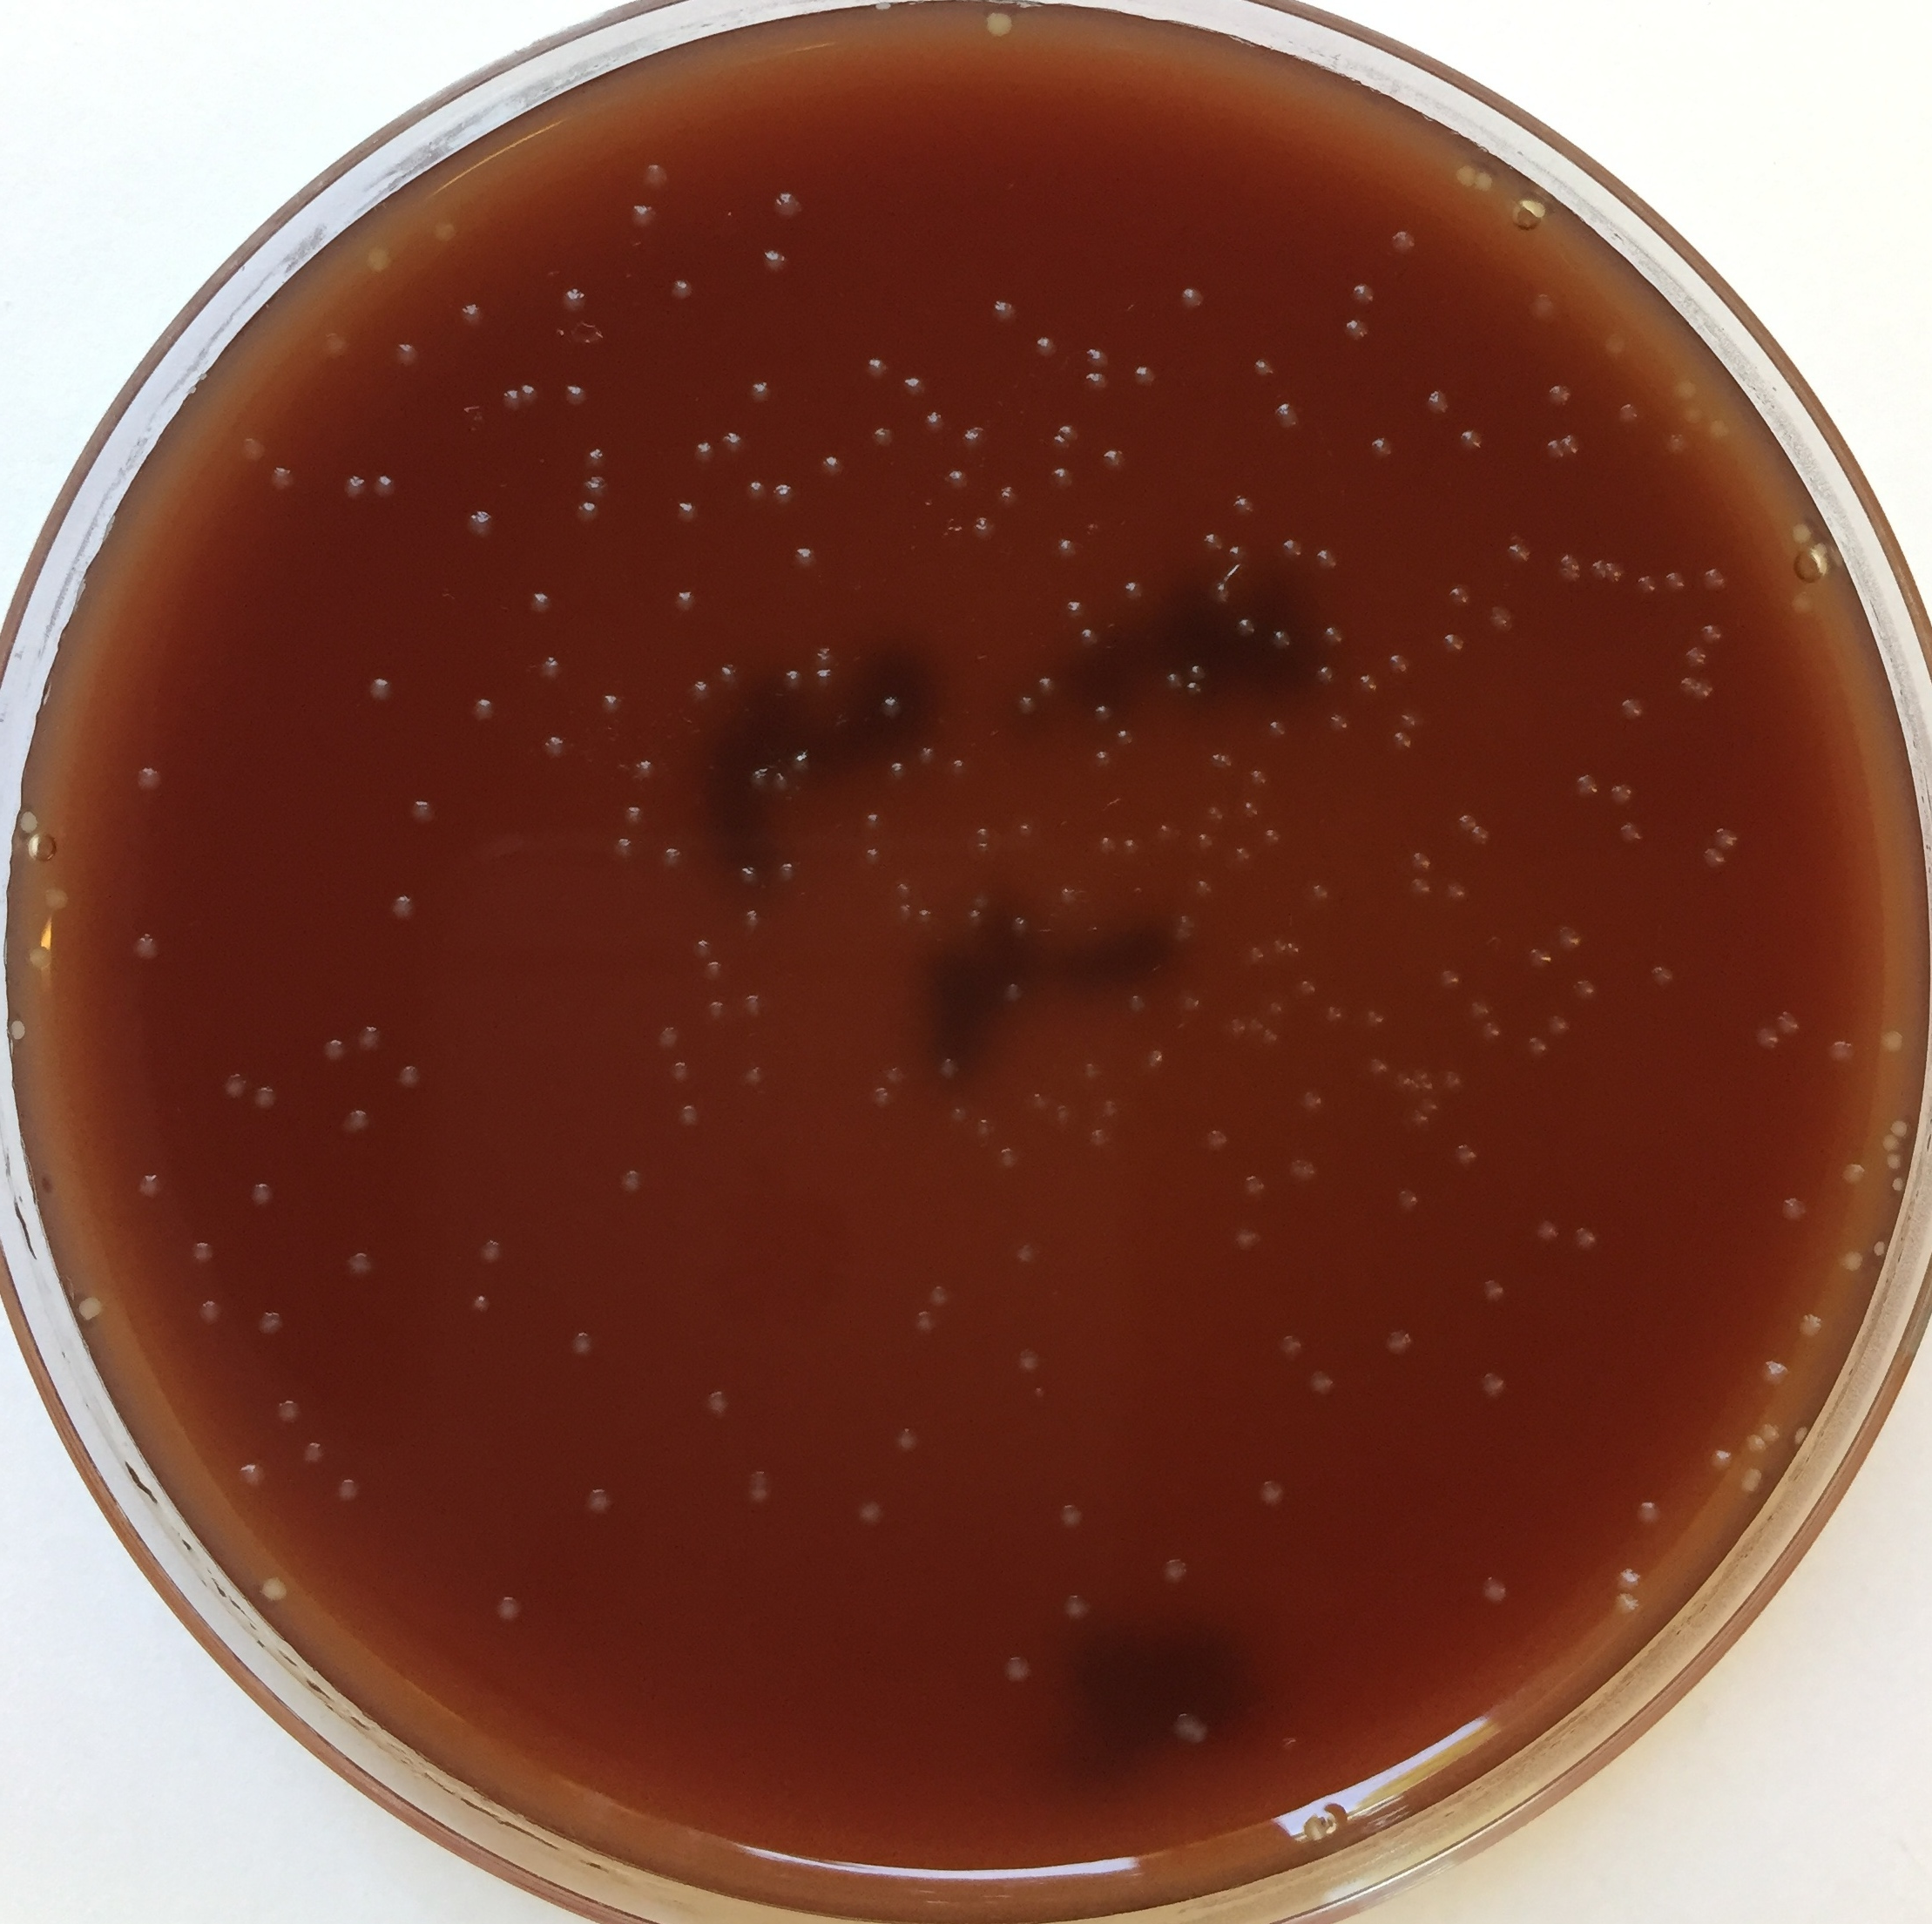sp23: (765, 187, 814, 233), (1377, 1318, 1417, 1373), (127, 921, 169, 973), (739, 1462, 781, 1512), (698, 1374, 737, 1427), (397, 788, 441, 833), (608, 1158, 652, 1203), (850, 1496, 895, 1540), (229, 1457, 277, 1499), (1338, 315, 1386, 358), (749, 233, 791, 278), (658, 840, 698, 888), (1535, 375, 1581, 416), (980, 7, 1019, 55), (1477, 1566, 1514, 1614), (1474, 1364, 1516, 1404), (1172, 278, 1213, 319), (351, 1017, 390, 1059), (887, 1420, 929, 1459), (1505, 525, 1537, 576), (330, 463, 365, 509), (1770, 1191, 1810, 1230), (233, 426, 270, 469), (1174, 1706, 1211, 1748), (1629, 1494, 1671, 1531), (384, 338, 420, 382), (249, 1300, 282, 1346), (1523, 1217, 1560, 1258), (619, 201, 661, 236), (487, 1591, 522, 1633), (1266, 402, 1312, 433), (1283, 1151, 1322, 1188), (998, 1653, 1037, 1690), (330, 1473, 368, 1510), (1008, 1343, 1049, 1378), (1474, 1274, 1514, 1309), (1786, 594, 1821, 634), (659, 270, 702, 303), (1754, 1357, 1796, 1390), (1530, 289, 1560, 335), (183, 1235, 220, 1272), (578, 1484, 615, 1521), (895, 368, 938, 400), (564, 1323, 596, 1365), (1791, 1311, 1833, 1343), (388, 886, 418, 930), (1169, 909, 1199, 953), (367, 465, 402, 502), (959, 416, 994, 453), (393, 1062, 430, 1098), (1384, 215, 1417, 254), (638, 157, 670, 197), (252, 1570, 293, 1602), (1389, 1184, 1430, 1216), (1608, 691, 1648, 722), (1474, 162, 1500, 210), (813, 453, 848, 488), (335, 1101, 370, 1136), (430, 211, 464, 248), (464, 506, 497, 543), (1259, 1473, 1290, 1512), (1516, 1027, 1548, 1066), (1423, 382, 1454, 421), (1606, 321, 1634, 363), (769, 483, 804, 516), (908, 1307, 941, 1343), (1486, 608, 1520, 643), (1675, 643, 1710, 677), (575, 439, 612, 470), (1123, 361, 1160, 393), (784, 541, 821, 573), (626, 758, 663, 789), (860, 1087, 892, 1124), (130, 1168, 167, 1200), (1821, 1036, 1858, 1068), (1749, 1022, 1780, 1059), (1361, 435, 1398, 467), (1683, 680, 1720, 712), (554, 379, 592, 409), (744, 1059, 774, 1098), (1160, 1550, 1190, 1589), (1056, 1593, 1095, 1623), (1340, 278, 1378, 308), (1458, 425, 1488, 463), (21, 941, 55, 974), (666, 583, 702, 615), (982, 296, 1017, 328), (650, 1020, 682, 1055), (672, 1099, 707, 1131), (1571, 1225, 1602, 1260), (858, 352, 888, 389), (739, 472, 769, 509), (613, 803, 650, 833), (217, 1069, 247, 1106), (476, 1235, 513, 1265), (296, 1439, 333, 1469), (1611, 1591, 1648, 1621), (467, 692, 499, 726), (608, 840, 640, 874), (702, 997, 733, 1031), (1054, 1498, 1086, 1531), (1874, 1027, 1906, 1061), (319, 331, 349, 366), (451, 300, 487, 329), (670, 495, 700, 530), (744, 377, 774, 412), (1081, 342, 1116, 372), (192, 1299, 227, 1328), (1565, 772, 1601, 802), (538, 731, 566, 768), (249, 1173, 277, 1210), (1518, 946, 1555, 974), (968, 514, 999, 546), (42, 883, 74, 914), (1012, 1237, 1044, 1269), (1310, 541, 1341, 573), (74, 1293, 108, 1323), (270, 1395, 303, 1425), (1833, 1246, 1867, 1276), (1643, 962, 1676, 992), (1616, 403, 1646, 437), (1447, 1142, 1488, 1166), (1093, 442, 1128, 470), (1735, 1466, 1770, 1494), (1608, 1561, 1645, 1587), (1555, 548, 1579, 587), (1029, 335, 1059, 366), (1248, 354, 1280, 384), (1074, 627, 1105, 657), (1206, 742, 1236, 773), (1153, 816, 1183, 847), (317, 1038, 349, 1068), (1699, 562, 1729, 594), (1442, 583, 1472, 615), (1698, 617, 1728, 648), (1437, 627, 1467, 659), (1317, 622, 1347, 654), (1350, 670, 1380, 701), (1322, 708, 1352, 740), (580, 472, 613, 500), (527, 587, 555, 620), (1266, 622, 1294, 655), (1775, 1001, 1803, 1034), (1440, 879, 1474, 907), (266, 465, 293, 500), (772, 853, 799, 888), (1553, 925, 1590, 950), (1706, 825, 1743, 849), (1239, 1172, 1269, 1202), (1033, 668, 1061, 699), (665, 1059, 696, 1087), (1223, 1228, 1266, 1249), (924, 1276, 952, 1307), (1789, 1422, 1817, 1454), (1606, 779, 1638, 807), (1611, 821, 1643, 849), (866, 426, 899, 453), (1232, 610, 1259, 643), (791, 738, 816, 773), (1357, 1003, 1393, 1027), (1449, 152, 1472, 189), (1278, 536, 1308, 564), (347, 1247, 377, 1276), (1082, 1126, 1111, 1156), (1260, 1029, 1290, 1057), (1312, 664, 1340, 694), (568, 499, 599, 525), (134, 763, 160, 795), (598, 687, 624, 719), (1227, 492, 1259, 518), (774, 662, 806, 689), (14, 803, 41, 835), (885, 1054, 911, 1085), (1299, 1087, 1326, 1119), (1280, 1332, 1306, 1364), (1299, 1809, 1326, 1841), (1262, 710, 1287, 744), (1003, 978, 1028, 1011), (1842, 1159, 1867, 1193), (1461, 995, 1495, 1020), (1606, 557, 1629, 592), (857, 805, 885, 833), (933, 1054, 961, 1082), (1200, 1126, 1229, 1154), (1387, 648, 1416, 677), (717, 430, 747, 456), (1139, 1047, 1169, 1073), (464, 1288, 494, 1314), (996, 1145, 1026, 1172), (1474, 1022, 1504, 1048), (1549, 1015, 1579, 1041), (1666, 433, 1692, 463), (1701, 847, 1731, 874), (561, 278, 585, 310), (367, 673, 391, 705), (996, 479, 1021, 511), (1204, 798, 1229, 830), (857, 846, 888, 870), (739, 990, 763, 1022), (1403, 1110, 1428, 1142), (691, 433, 714, 467), (1095, 1098, 1128, 1121), (1049, 462, 1075, 490), (1195, 530, 1223, 557), (1756, 1424, 1782, 1452), (918, 409, 948, 433), (1017, 692, 1042, 722), (1010, 819, 1040, 844), (687, 930, 712, 960), (1008, 909, 1033, 939), (1742, 1432, 1772, 1457), (1361, 1052, 1386, 1082), (1437, 1068, 1467, 1092), (1405, 847, 1435, 872), (749, 759, 772, 791), (703, 958, 726, 990), (1285, 934, 1308, 966), (252, 1078, 275, 1110), (1669, 377, 1701, 400), (1676, 403, 1708, 426), (1634, 569, 1657, 601), (770, 766, 790, 803), (941, 467, 968, 493), (714, 659, 740, 685), (880, 689, 906, 715), (1118, 578, 1144, 604), (1306, 877, 1333, 904), (1241, 943, 1267, 969), (1075, 1057, 1102, 1084), (1051, 1099, 1077, 1126), (1876, 1131, 1902, 1158), (365, 245, 390, 273), (1207, 581, 1232, 610), (915, 745, 943, 770), (892, 872, 917, 900), (689, 677, 712, 707), (1195, 828, 1218, 858), (1028, 1084, 1047, 1119), (518, 377, 539, 409), (1260, 826, 1287, 851), (971, 1115, 996, 1142), (1322, 999, 1347, 1025), (1403, 874, 1430, 899), (1245, 768, 1273, 791), (1664, 569, 1687, 597), (917, 902, 938, 932), (543, 652, 562, 684), (740, 904, 760, 936), (1437, 967, 1461, 992), (1391, 728, 1416, 752), (1474, 828, 1498, 853), (1089, 745, 1112, 772), (11, 1020, 33, 1047), (1297, 978, 1320, 1004), (1312, 1373, 1334, 1399), (1708, 1447, 1735, 1469), (497, 386, 518, 414), (1093, 696, 1114, 724), (947, 751, 968, 779), (1708, 416, 1729, 444), (1058, 874, 1075, 907), (1054, 419, 1084, 439), (885, 761, 908, 786), (814, 643, 836, 670), (813, 666, 834, 692), (1229, 541, 1255, 562), (892, 900, 913, 927), (1195, 879, 1222, 900), (1126, 990, 1148, 1017), (1266, 994, 1287, 1020), (1782, 518, 1809, 539), (1081, 374, 1109, 393), (739, 863, 758, 892), (948, 1099, 968, 1128), (1054, 537, 1079, 559), (1183, 678, 1204, 703), (1542, 437, 1564, 462), (1565, 435, 1586, 460), (1454, 810, 1479, 832), (962, 906, 982, 932), (1396, 712, 1428, 728), (1571, 980, 1599, 997), (1417, 1099, 1445, 1117), (1121, 833, 1142, 856), (975, 844, 996, 867), (1183, 990, 1202, 1015), (1391, 1068, 1410, 1092), (1884, 1154, 1909, 1173), (1054, 437, 1075, 458), (1063, 596, 1084, 617), (1116, 729, 1137, 751), (1241, 800, 1262, 821), (1232, 844, 1253, 865), (1416, 1066, 1430, 1098), (1890, 1173, 1911, 1195), (1246, 1013, 1266, 1036), (1096, 832, 1114, 856), (1227, 1015, 1243, 1041), (1185, 659, 1204, 680), (1029, 1383, 1049, 1404), (1271, 936, 1289, 958), (1872, 1237, 1890, 1260), (1586, 557, 1604, 580), (1162, 668, 1178, 692), (968, 825, 991, 840), (1891, 1117, 1914, 1133)
